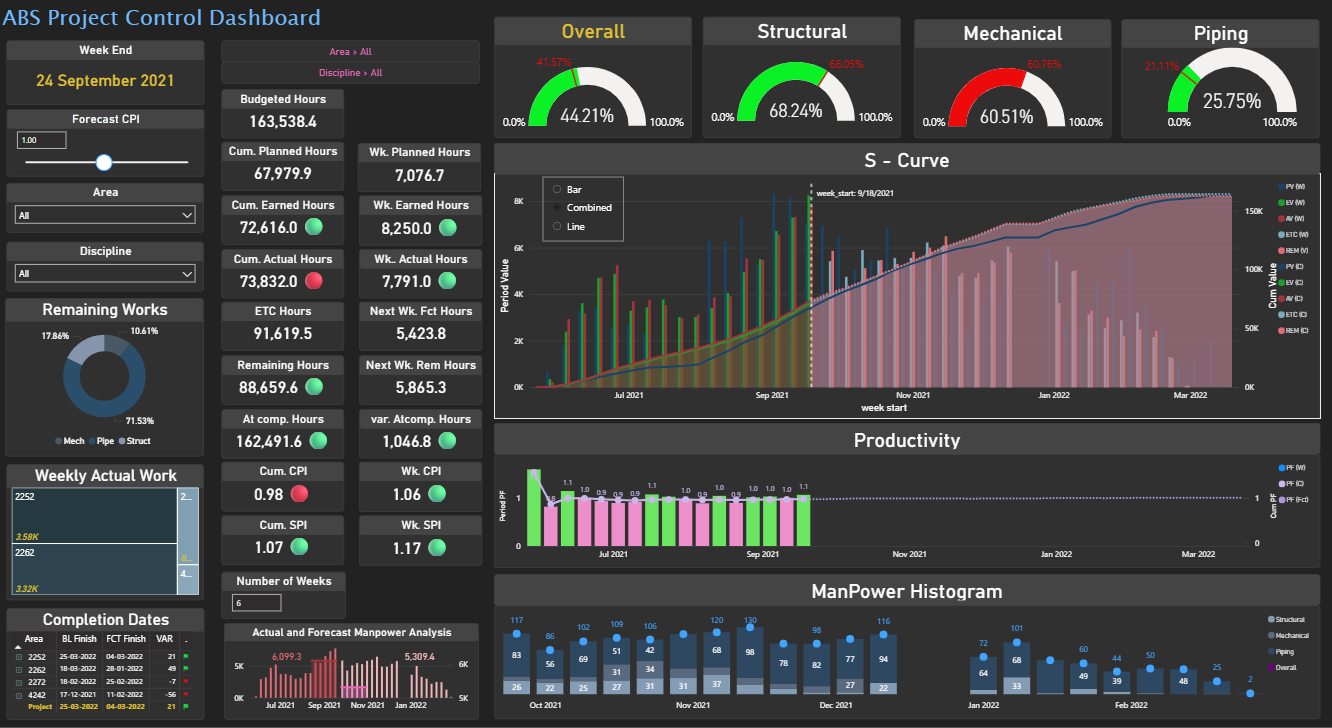

What the dashboard file says about the page in this screenshot:
{"tool":"powerbi","page":{"name":"Dashborad","canvas":[2000,1100],"ordinal":0},"visuals":[{"type":"textbox","box":[0,0,498.4,62.9],"z":0},{"type":"card","title":"Week End","fields":{"Values":["store_measure.week_end"]},"box":[10.8,63.3,296.7,96.7],"z":1000},{"type":"slicer","title":"Area","fields":{"Values":["all_data.Area"]},"box":[11.2,278,296.3,74.1],"z":2000},{"type":"slicer","title":"Discipline","fields":{"Values":["all_data.Discipline"]},"box":[11.2,365,296.3,74.1],"z":3000},{"type":"lineClusteredColumnComboChart","fields":{"Category":["all_data.week_start"],"Y":["store_measure.barChart_baseline","store_measure.barChart_earned_hours","store_measure.barChart_actual_hours","store_measure.barChart_estimate_hours","store_measure.barChart_remaining_hours"],"Y2":["store_measure.LineChart_baseline_hours","store_measure.LineChart_earned_hours","store_measure.LineChart_actual_hours","store_measure.LineChart_estimate(etc)_hours","store_measure.LineChart_remaining_hours"]},"box":[743.1,262.7,1239.2,368.2],"z":4000},{"type":"card","fields":{"Values":["store_measure.s_curve_title"]},"box":[743.1,217.8,1239.2,47.1],"z":5000},{"type":"gauge","title":"Overall","fields":{"Y":["store_measure.earned_%_todate"],"TargetValue":["store_measure.baseline_%_todate"]},"box":[742.9,28.6,297.1,181.4],"z":6000},{"type":"gauge","title":"Structural","fields":{"Y":["store_measure.earned_%_todate"],"TargetValue":["store_measure.baseline_%_todate"]},"box":[1055.7,28.6,297.1,181.4],"z":7000},{"type":"gauge","title":"Mechanical","fields":{"Y":["store_measure.earned_%_todate"],"TargetValue":["store_measure.baseline_%_todate"]},"box":[1372.9,31.4,295.7,178.6],"z":8000},{"type":"gauge","title":"Piping","fields":{"Y":["store_measure.earned_%_todate"],"TargetValue":["store_measure.baseline_%_todate"]},"box":[1684.3,31.4,297.1,178.6],"z":9000},{"type":"lineClusteredColumnComboChart","fields":{"Y":["store_measure.period_pf"],"Category":["all_data.week_start"],"Y2":["store_measure.cum_pf","store_measure.cum_pf_forcast"]},"box":[743.1,684.7,1239.2,170.6],"z":10000},{"type":"card","fields":{"Values":["store_measure.pf_chart_title"]},"box":[743.1,637.6,1239.2,47.1],"z":11000},{"type":"lineStackedColumnComboChart","fields":{"Category":["all_data.week_start"],"Y":["store_measure.manpower_forecast_strt","store_measure.manpower_forecast_mec","store_measure.manpower_forecast_pipe"],"Y2":["store_measure.man_power_forecast"]},"box":[743.1,911.4,1239.2,170.6],"z":12000},{"type":"card","fields":{"Values":["store_measure.Histogram_title"]},"box":[743.1,864.3,1239.2,47.1],"z":13000},{"type":"donutChart","title":"Remaining Works","fields":{"Y":["store_measure.Remaining_hours"],"Series":["all_data.Discipline"]},"box":[10,450,297.5,237.5],"z":14000},{"type":"treemap","title":"Weekly Actual Work","fields":{"Values":["store_measure.weekly_actual_hours"],"Group":["all_data.Area"]},"box":[11.2,700,296.3,204.3],"z":15000},{"type":"pivotTable","title":"Completion Dates","fields":{"Rows":["all_data.Area","all_data.Discipline"],"Values":["store_measure.baseline_finish_dates","store_measure.forecast_finish_dates","store_measure.date_variance","store_measure.ind_flag"]},"box":[11,914,297,168],"z":16000},{"type":"card","title":"Budgeted Hours","fields":{"Values":["store_measure.baseline_hours"]},"box":[334.5,136.4,183.6,73.6],"z":17000},{"type":"card","title":"Cum. Planned Hours","fields":{"Values":["store_measure.baseline_hours_todate"]},"box":[334.1,216,183.6,73.6],"z":18000},{"type":"card","title":"Cum. Earned Hours","fields":{"Values":["store_measure.lbl_cum_earned_hours"]},"box":[334.1,296,183.6,73.6],"z":19000},{"type":"card","title":"Cum. Actual Hours","fields":{"Values":["store_measure.lbl_cum_actual_hours"]},"box":[334.1,376,183.6,73.6],"z":20000},{"type":"card","title":"ETC Hours","fields":{"Values":["store_measure.Estimate_tocomplte_hours"]},"box":[334.1,456,183.6,73.6],"z":21000},{"type":"card","title":"Remaining Hours","fields":{"Values":["store_measure.lbl_remaining_hours"]},"box":[334.1,536,183.6,73.6],"z":22000},{"type":"card","title":"At comp. Hours","fields":{"Values":["store_measure.lbl_atcomp_hours"]},"box":[334.5,616,184.1,74.1],"z":23000},{"type":"card","title":"Cum. CPI","fields":{"Values":["store_measure.lbl_cum_cpi_hours"]},"box":[334.5,696,184.1,74.1],"z":24000},{"type":"card","title":"Cum. SPI","fields":{"Values":["store_measure.lbl_cum_spi_hours"]},"box":[334.5,776,184.1,74.1],"z":25000},{"type":"card","title":"Wk. Planned Hours","fields":{"Values":["store_measure.weekly_baseline_hours"]},"box":[538.8,217.5,185,73.8],"z":26000},{"type":"card","title":"Wk. Earned Hours","fields":{"Values":["store_measure.lbl_week_earned_hours"]},"box":[540,296.2,185,75],"z":27000},{"type":"card","title":"Wk.. Actual Hours","fields":{"Values":["store_measure.lbl_weekly_actual_hours"]},"box":[540,376.2,185,73.8],"z":28000},{"type":"card","title":"Next Wk. Fct Hours","fields":{"Values":["store_measure.nextweek_fct_hours"]},"box":[540,456.2,185,73.8],"z":29000},{"type":"card","title":"var. Atcomp. Hours","fields":{"Values":["store_measure.lbl_var_atcomp_hours"]},"box":[540,616.2,185,73.8],"z":30000},{"type":"card","title":"Wk. CPI","fields":{"Values":["store_measure.lbl_week_pf"]},"box":[540,696.2,185,75],"z":31000},{"type":"card","title":"Wk. SPI","fields":{"Values":["store_measure.lbl_week_spi"]},"box":[540,776.2,185,75],"z":32000},{"type":"card","fields":{"Values":["store_measure.show_selected_area"]},"box":[334,63,387,33],"z":33000},{"type":"card","fields":{"Values":["store_measure.show_selected_disc"]},"box":[333.6,95.5,387.3,32.7],"z":34000},{"type":"slicer","fields":{"Values":["tbl_chart_type.Chart_type"]},"box":[815.7,268.6,121.4,97.1],"z":35000},{"type":"slicer","title":"Forecast CPI","fields":{"Values":["Forecast_cpi.Forecast_cpi"]},"box":[10.8,167.5,296.7,100.8],"z":36000},{"type":"card","title":"Next Wk. Rem Hours","fields":{"Values":["store_measure.nextweek_rem_hours"]},"box":[540,536.2,185,73.8],"z":37000},{"type":"slicer","title":"Number of Weeks","fields":{"Values":["Numbers_Week.Numbers_Week"]},"box":[333.8,860,186.2,70],"z":38000},{"type":"lineClusteredColumnComboChart","title":"Actual and Forecast Manpower Analysis","fields":{"Category":["all_data.week_start"],"Y":["store_measure.actual_hours","store_measure.remaining_hours"],"Y2":["store_measure.chart_dynamic_avg_actual","store_measure.chart_dynamic_avg_remain"]},"box":[337.5,937.5,382.5,145],"z":39000},{"type":"card","fields":{"Values":["store_measure.dynamic_actual_avg"]},"box":[395,972.5,71.7,24.2],"z":39001},{"type":"card","fields":{"Values":["store_measure.dynamic_remain_avg"]},"box":[596.7,972.5,69.2,24.2],"z":39002}]}

Visuals, with their boxes in screenshot pixels (x1, y1, x2, y2), scaled from the page's 2000x1100 canvas onto the 1332x728 screenshot:
textbox: Rect(0, 0, 332, 42)
"Week End" card: Rect(7, 42, 205, 106)
"Area" slicer: Rect(7, 184, 205, 233)
"Discipline" slicer: Rect(7, 242, 205, 291)
lineClusteredColumnComboChart - all_data.week_start x store_measure.barChart_baseline: Rect(495, 174, 1320, 418)
card - store_measure.s_curve_title: Rect(495, 144, 1320, 175)
"Overall" gauge: Rect(495, 19, 693, 139)
"Structural" gauge: Rect(703, 19, 901, 139)
"Mechanical" gauge: Rect(914, 21, 1111, 139)
"Piping" gauge: Rect(1122, 21, 1320, 139)
lineClusteredColumnComboChart - store_measure.period_pf x all_data.week_start: Rect(495, 453, 1320, 566)
card - store_measure.pf_chart_title: Rect(495, 422, 1320, 453)
lineStackedColumnComboChart - all_data.week_start x store_measure.manpower_forecast_strt: Rect(495, 603, 1320, 716)
card - store_measure.Histogram_title: Rect(495, 572, 1320, 603)
"Remaining Works" donutChart: Rect(7, 298, 205, 455)
"Weekly Actual Work" treemap: Rect(7, 463, 205, 598)
"Completion Dates" pivotTable: Rect(7, 605, 205, 716)
"Budgeted Hours" card: Rect(223, 90, 345, 139)
"Cum. Planned Hours" card: Rect(223, 143, 345, 192)
"Cum. Earned Hours" card: Rect(223, 196, 345, 245)
"Cum. Actual Hours" card: Rect(223, 249, 345, 298)
"ETC Hours" card: Rect(223, 302, 345, 350)
"Remaining Hours" card: Rect(223, 355, 345, 403)
"At comp. Hours" card: Rect(223, 408, 345, 457)
"Cum. CPI" card: Rect(223, 461, 345, 510)
"Cum. SPI" card: Rect(223, 514, 345, 563)
"Wk. Planned Hours" card: Rect(359, 144, 482, 193)
"Wk. Earned Hours" card: Rect(360, 196, 483, 246)
"Wk.. Actual Hours" card: Rect(360, 249, 483, 298)
"Next Wk. Fct Hours" card: Rect(360, 302, 483, 351)
"var. Atcomp. Hours" card: Rect(360, 408, 483, 457)
"Wk. CPI" card: Rect(360, 461, 483, 510)
"Wk. SPI" card: Rect(360, 514, 483, 563)
card - store_measure.show_selected_area: Rect(222, 42, 480, 64)
card - store_measure.show_selected_disc: Rect(222, 63, 480, 85)
slicer - tbl_chart_type.Chart_type: Rect(543, 178, 624, 242)
"Forecast CPI" slicer: Rect(7, 111, 205, 178)
"Next Wk. Rem Hours" card: Rect(360, 355, 483, 404)
"Number of Weeks" slicer: Rect(222, 569, 346, 615)
"Actual and Forecast Manpower Analysis" lineClusteredColumnComboChart: Rect(225, 620, 480, 716)
card - store_measure.dynamic_actual_avg: Rect(263, 644, 311, 660)
card - store_measure.dynamic_remain_avg: Rect(397, 644, 443, 660)
